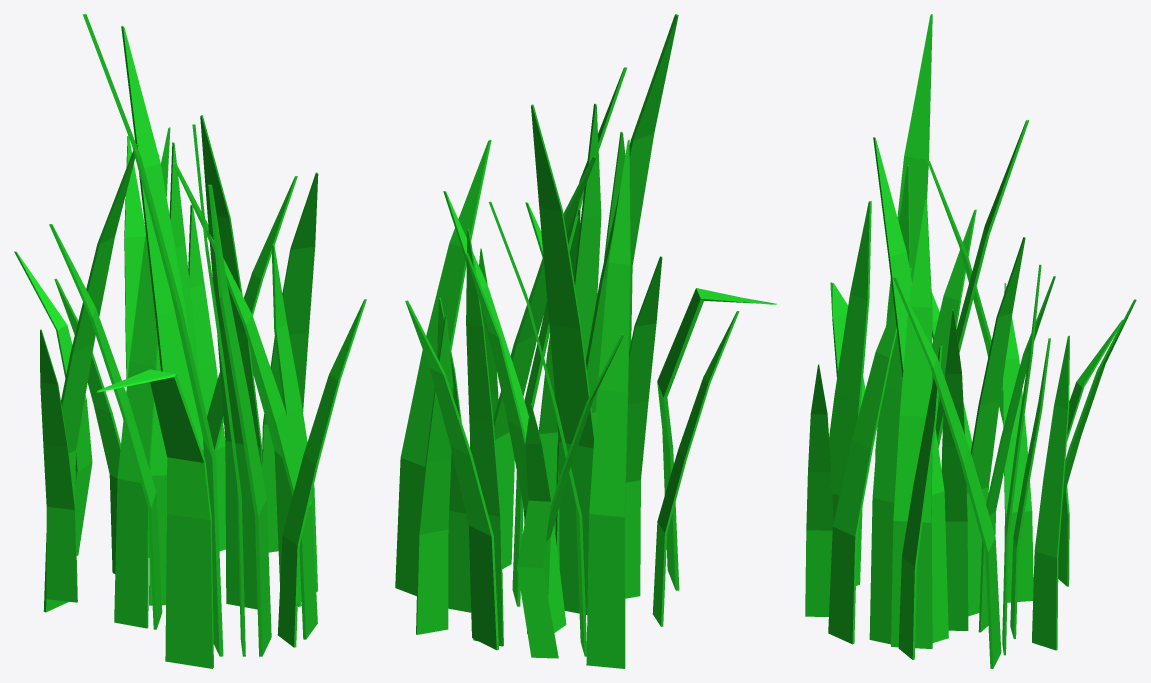
The model's file is Gras_01_rdy.fbx.
The picture shows the model from 3 angles, left to right: view 1: azimuth 30°, elevation 25°; view 2: azimuth 150°, elevation 25°; view 3: azimuth 270°, elevation 25°; orthographic projection. The views are drawn at different scales.
Parts seen in each view (by area): view 1: Gras_01; view 2: Gras_01; view 3: Gras_01.
Part boxes in pixels (bbox=[...]): Gras_01: bbox=[14, 14, 366, 668]; Gras_01: bbox=[395, 14, 776, 668]; Gras_01: bbox=[805, 14, 1136, 668].
Size of the model in its own units: 1188 by 2402 by 1265.
